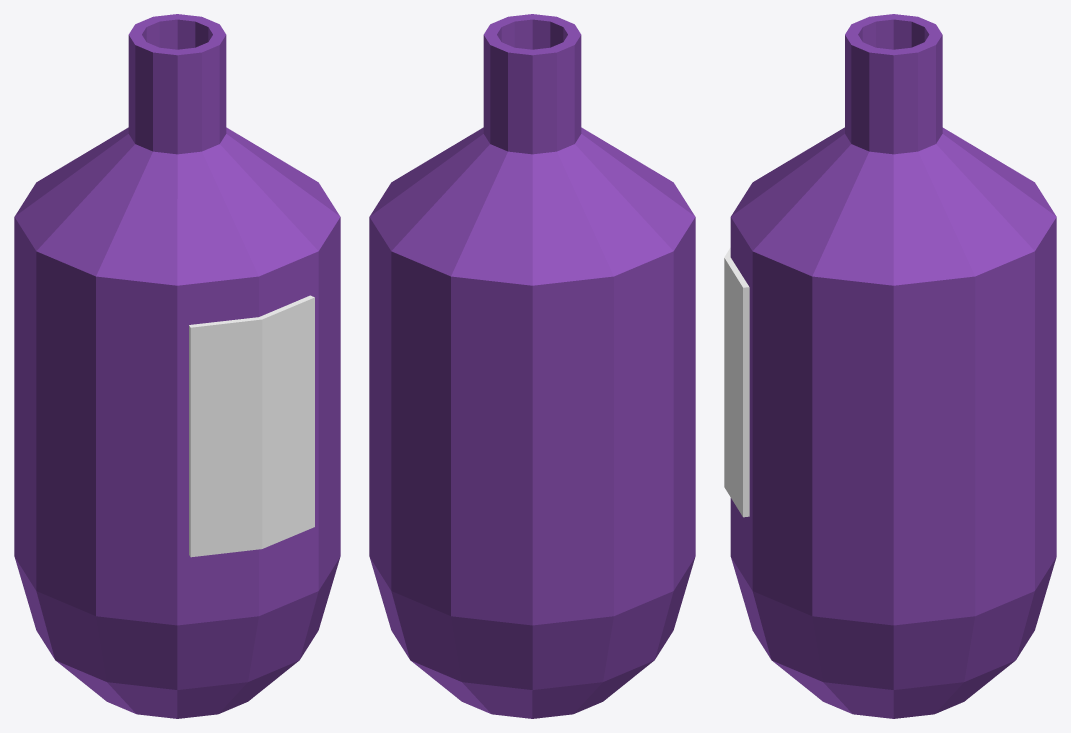
File: SM_potion_01.fbx
3 renders of one model, left to right at view 1: azimuth 30°, elevation 25°; view 2: azimuth 150°, elevation 25°; view 3: azimuth 270°, elevation 25°, orthographic.
Parts seen in each view (by area): view 1: Object001; view 2: Object001; view 3: Object001.
Boxes of the visible parts, left/top/right/bottom form: Object001: left=14, top=14, right=340, bottom=718; Object001: left=369, top=14, right=695, bottom=718; Object001: left=724, top=14, right=1056, bottom=718.
Size of the model in its own units: 7.78 by 17.63 by 7.94.
